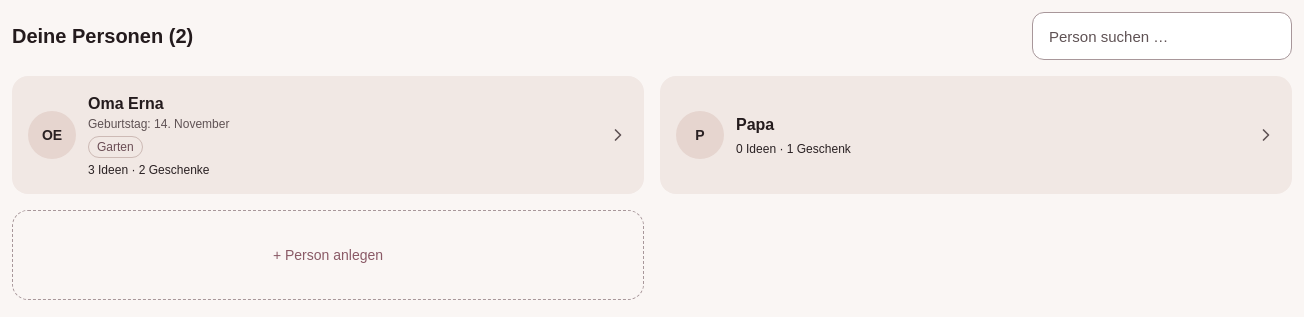
PersonSearchList › zeigt einen Hinweis, wenn die Suche nichts findet
Step 1. Type "niemand" into the search field with placeholder "Person suchen …" → [1162, 36], box [1032,12,1292,60]
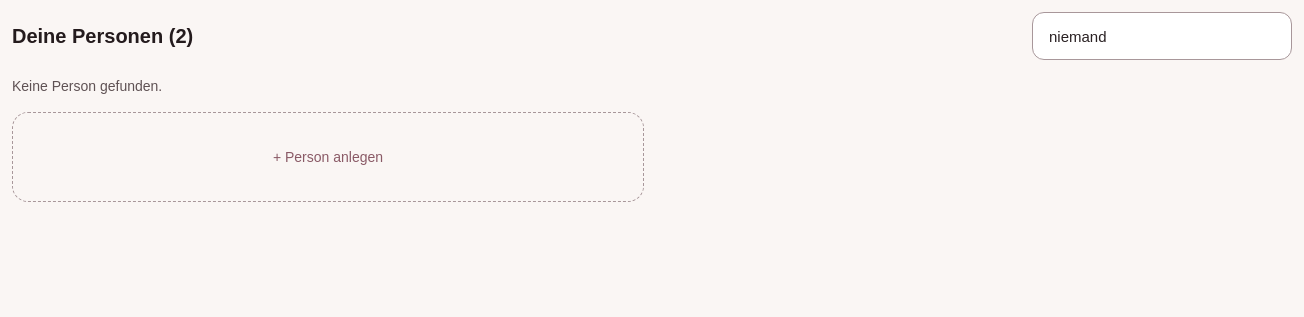
Result: the text "Keine Person gefunden." is shown at [12,78,162,94]
